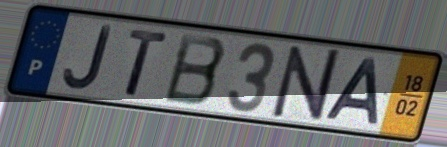3: (226, 40, 277, 113)
A: (321, 57, 382, 128)
B: (160, 31, 230, 109)
J: (62, 23, 115, 92)
N: (269, 44, 343, 123)
T: (123, 26, 172, 99)
